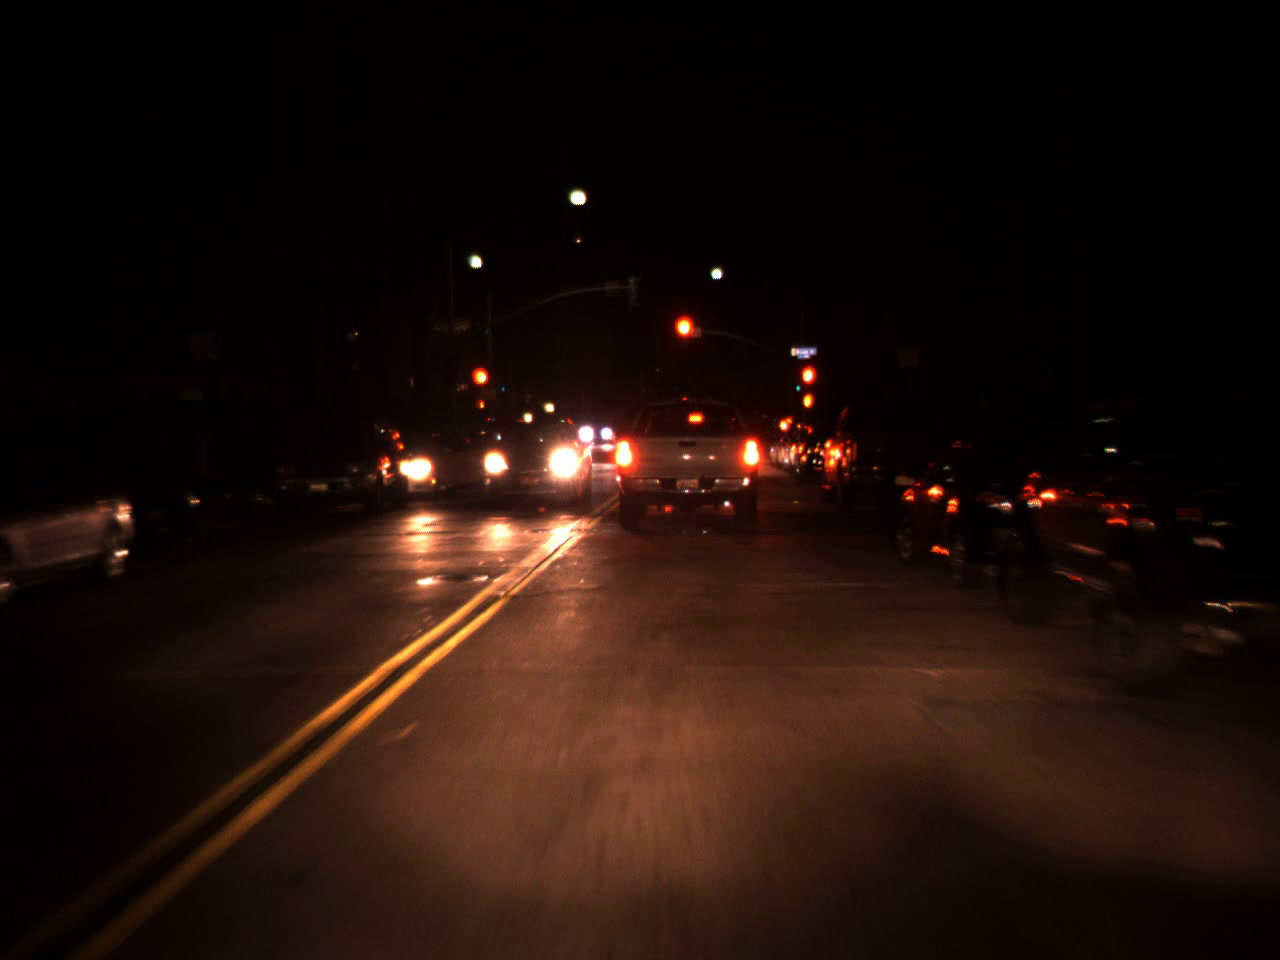stop: (671, 312, 698, 366), (799, 361, 818, 409), (470, 364, 491, 407)
